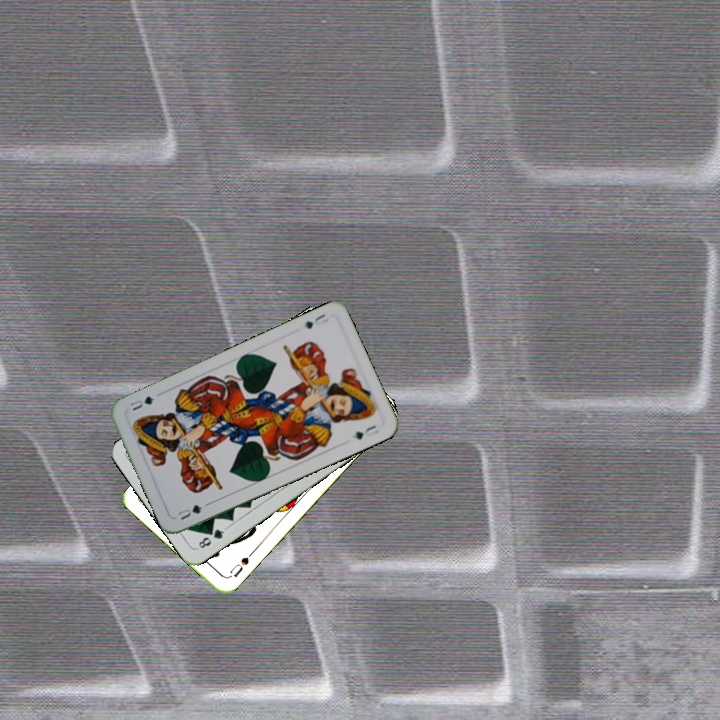G8: (193, 524, 229, 551)
GU: (174, 499, 211, 523), (300, 310, 328, 331)
SU: (224, 547, 256, 581)
